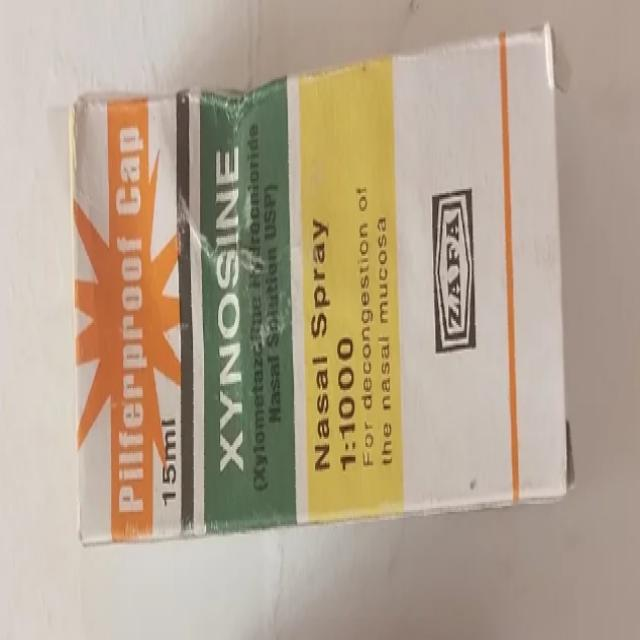drug-name: (209, 143, 250, 475)
